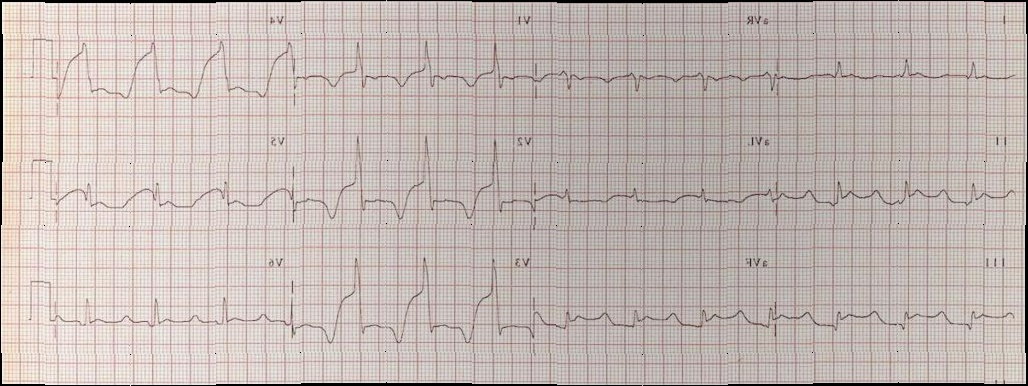Lead_I: (781, 9, 1019, 108)
Lead_II: (779, 123, 1021, 225)
Lead_III: (777, 245, 1025, 356)
Lead_V1: (292, 6, 535, 114)
Lead_V2: (292, 120, 535, 235)
Lead_V3: (291, 245, 533, 354)
Lead_V4: (56, 3, 292, 125)
Lead_V5: (54, 129, 291, 236)
Lead_V6: (52, 241, 288, 357)
Lead_aVF: (535, 247, 779, 361)
Lead_aVL: (535, 128, 779, 226)
Lead_aVR: (535, 10, 778, 114)
